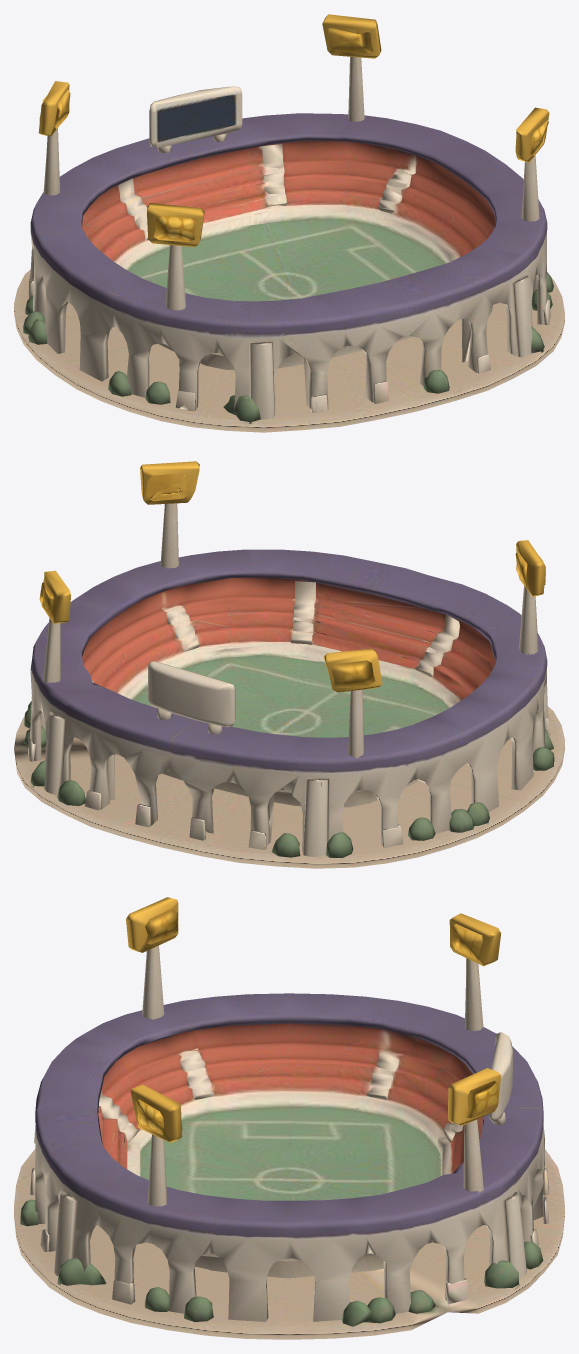
Rendered from stadium.glb.
The picture shows the model from 3 angles, top to bottom: view 1: azimuth 30°, elevation 25°; view 2: azimuth 150°, elevation 25°; view 3: azimuth 270°, elevation 25°; orthographic projection. The views are drawn at different scales.
Visible parts, largest first — view 1: geometry_0; view 2: geometry_0; view 3: geometry_0.
Boxes of the visible parts, box(x1,y1,x2,y2) form: geometry_0: box(14, 14, 564, 432); geometry_0: box(14, 461, 564, 868); geometry_0: box(14, 897, 564, 1339).
Size of the model in its own units: 0.9546 by 0.3892 by 0.8989.
1 material, 1 textured.
